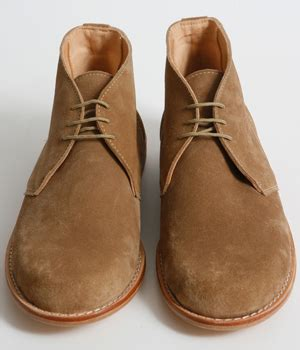gamuza: (7, 16, 297, 321)
